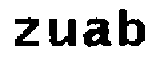a: (84, 16, 112, 48)
b: (115, 3, 149, 51)
u: (47, 17, 80, 48)
z: (10, 15, 42, 49)
